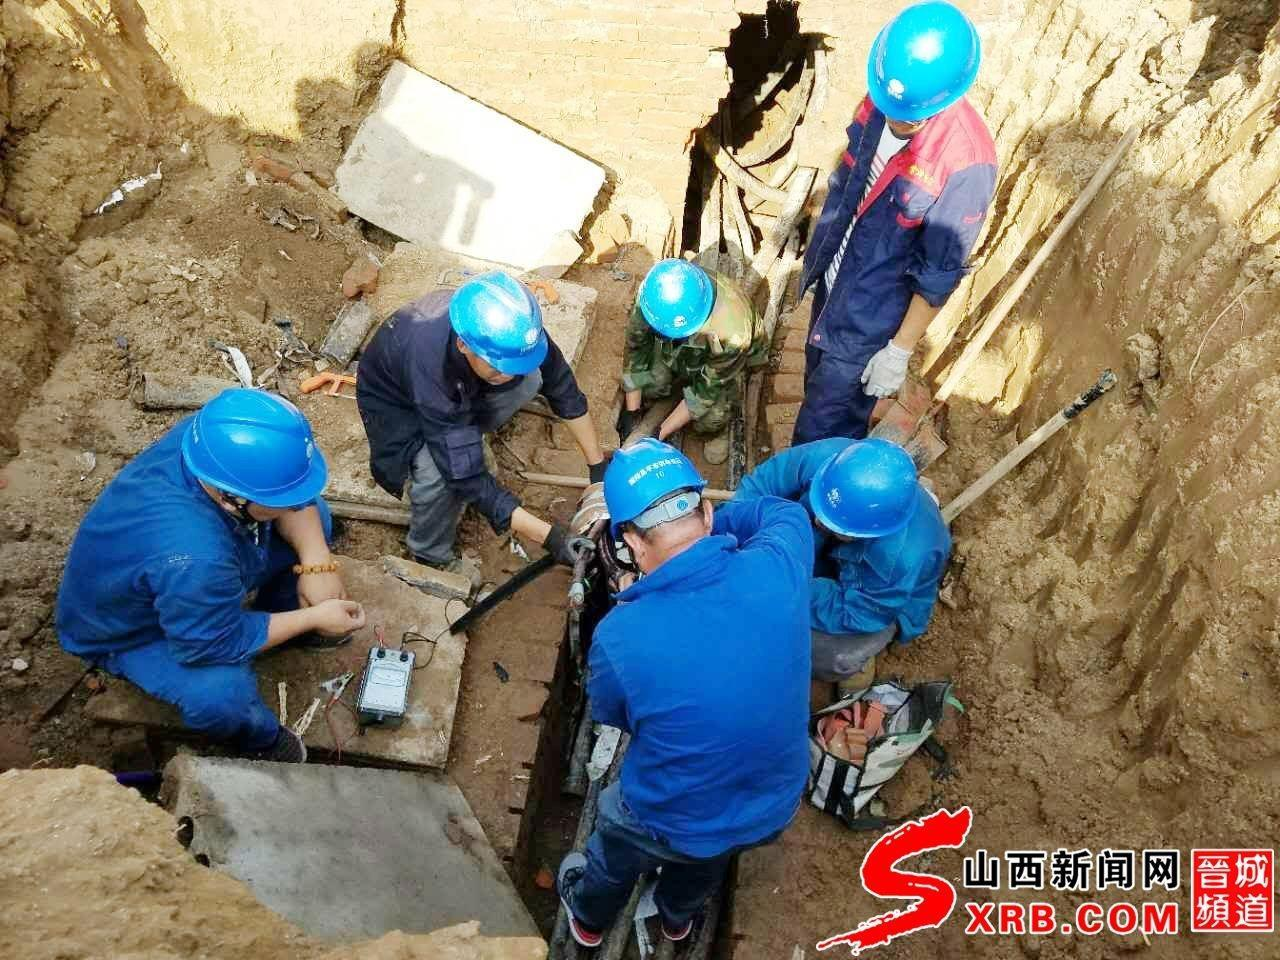helmet: (191, 376, 338, 517), (861, 16, 990, 119), (801, 439, 927, 541), (445, 274, 551, 386), (591, 436, 712, 532), (631, 249, 725, 356)
no-vest: (601, 559, 821, 867), (818, 136, 979, 388)
person: (588, 419, 819, 960), (65, 352, 343, 778), (811, 12, 1001, 440), (365, 272, 570, 605)
